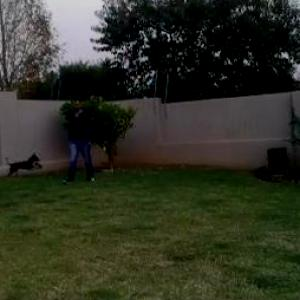follow: (66, 90, 96, 189)
